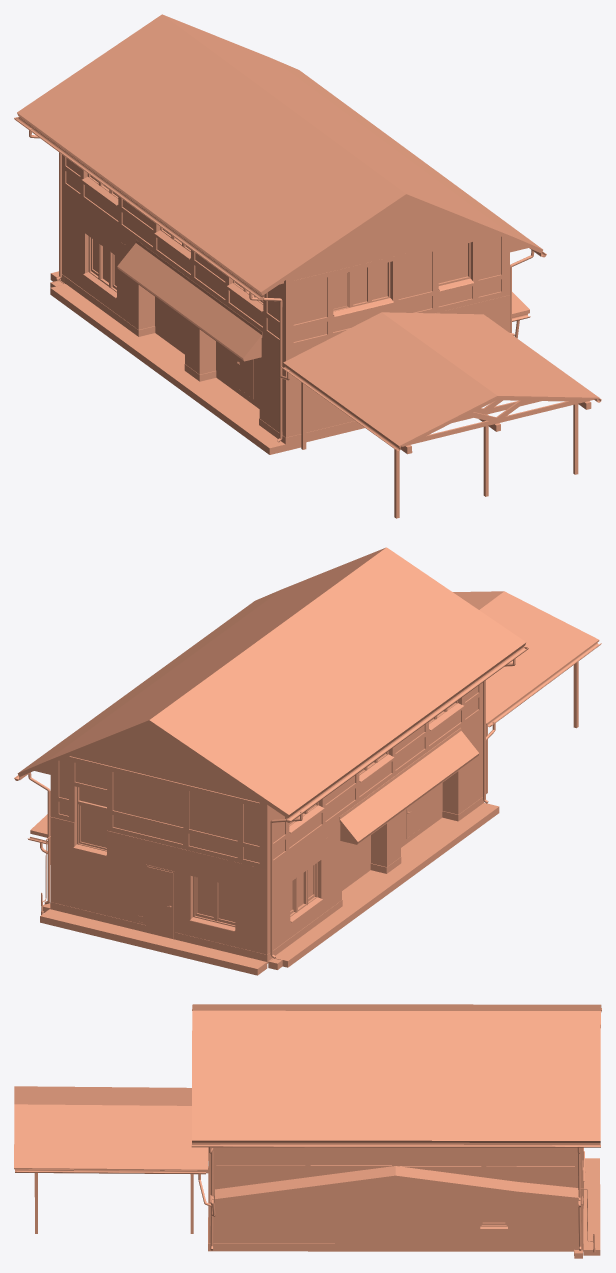
3 renders of one model, top to bottom at view 1: azimuth 30°, elevation 25°; view 2: azimuth 150°, elevation 25°; view 3: azimuth 270°, elevation 25°, orthographic. The views are drawn at different scales.
Visible parts, largest first — view 1: A-WALL, A-FLOR, P-PIPE; view 2: A-WALL, A-FLOR, A-GLAZ-CURT, P-PIPE; view 3: A-WALL, A-FLOR, P-PIPE, A-GLAZ-CURT.
Part boxes in pixels (<box>): A-WALL: <box>14,14,601,518</box>; A-FLOR: <box>50,271,301,454</box>; P-PIPE: <box>29,128,534,442</box>; A-WALL: <box>14,547,601,969</box>; A-FLOR: <box>40,803,499,975</box>; A-GLAZ-CURT: <box>79,711,442,922</box>; P-PIPE: <box>28,656,515,958</box>; A-WALL: <box>14,1004,601,1258</box>; A-FLOR: <box>583,1158,600,1255</box>; P-PIPE: <box>198,1145,595,1252</box>; A-GLAZ-CURT: <box>482,1191,505,1222</box>.
Bounding box in the file's own units: 8.91 × 7.02 × 18.85.
